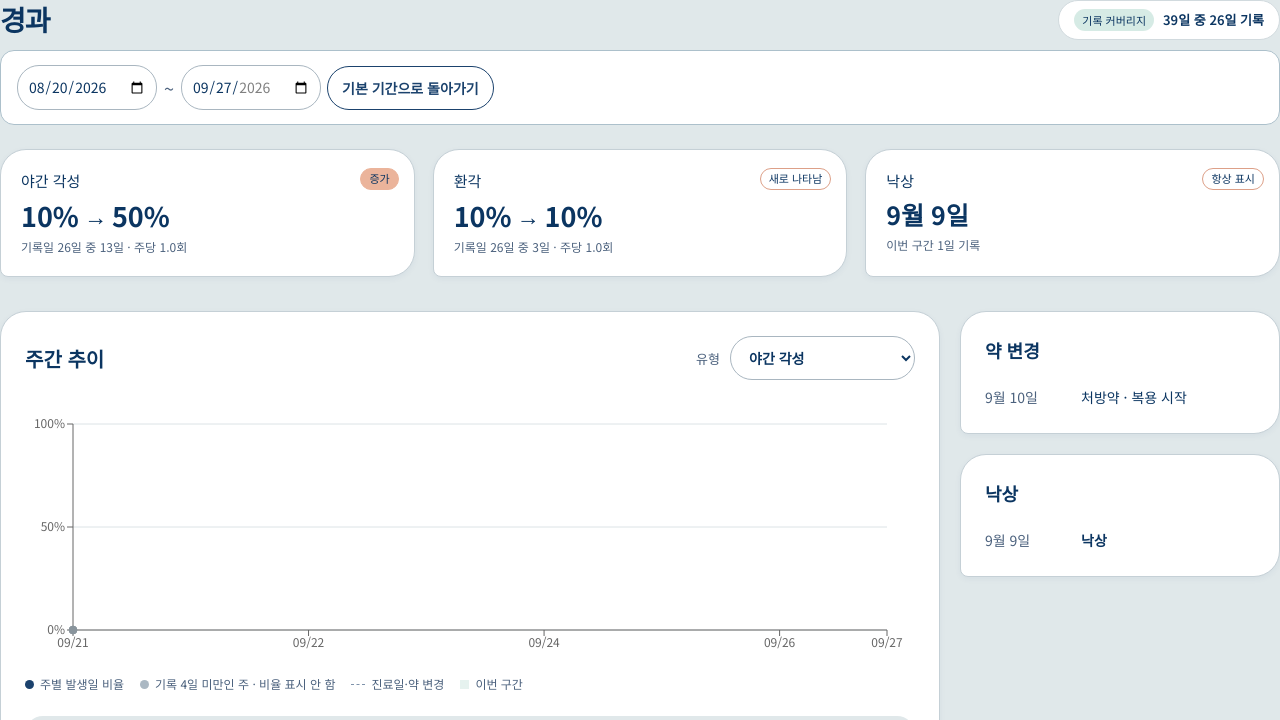
근거는 선택한 유형의 선택한 날짜·원문을 열고 떠날 때 닫는다
What coordinates should you click on to do the following:
click the button with aria-label "야간 각성, 기준 10%"
I would click on:
 (51, 181)
Its box is [0,149,415,278].
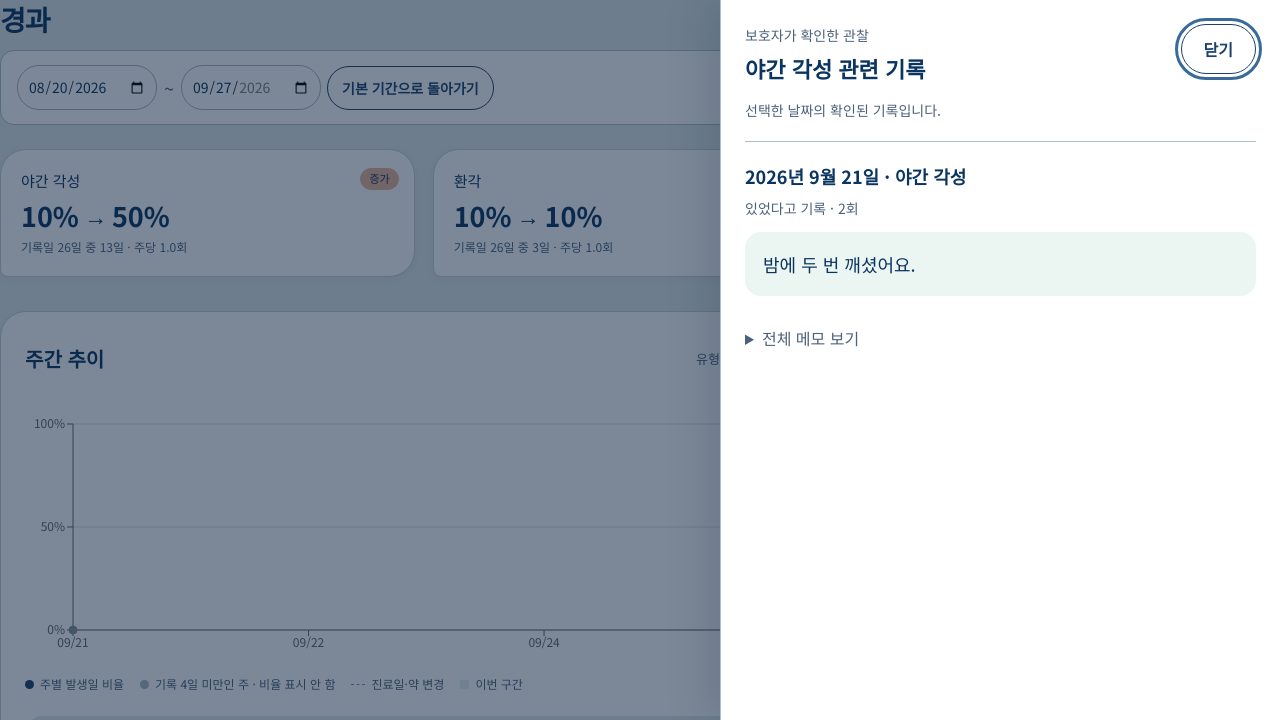
Expected: the heading "2026년 9월 21일 · 야간 각성" is shown, [745,163,966,189]
Expected: the text "밤에 두 번 깨셨어요." is shown, [745,232,1256,296]
